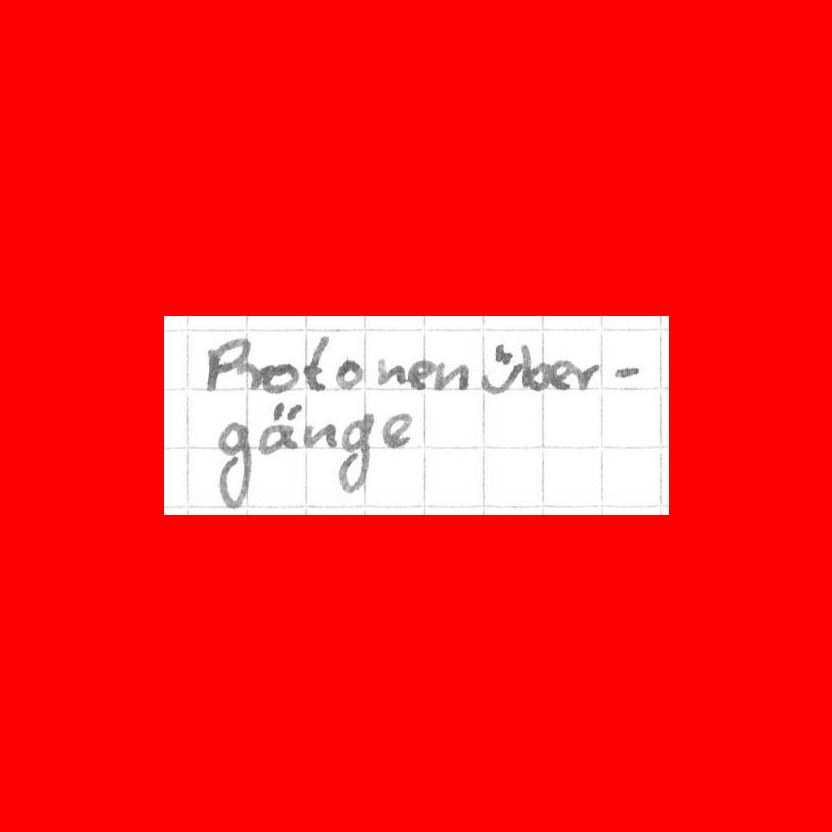Char: (210, 419, 255, 513), (336, 409, 377, 495), (255, 397, 303, 456), (204, 338, 249, 393), (479, 342, 522, 398), (302, 331, 331, 393), (376, 408, 414, 450), (520, 339, 551, 390), (299, 418, 340, 452), (431, 358, 469, 392), (260, 362, 299, 395), (330, 356, 367, 389), (233, 357, 268, 391), (572, 358, 604, 394), (374, 355, 407, 388), (407, 357, 437, 391), (550, 355, 575, 392), (608, 358, 644, 383)
